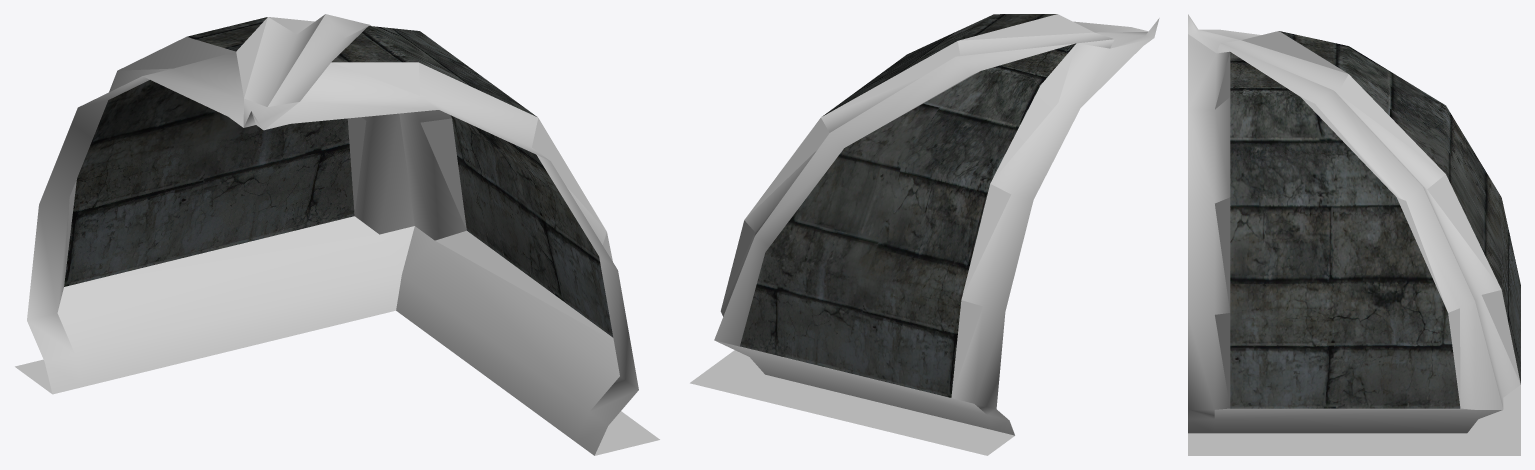
File: corner_concave_short_flat.dae
3 views of the same model, side by side, from view 1: azimuth 30°, elevation 25°; view 2: azimuth 150°, elevation 25°; view 3: azimuth 270°, elevation 25° (orthographic). The views are drawn at different scales.
Visible parts, largest first — view 1: polySurface2, polySurface17; view 2: polySurface17, polySurface2; view 3: polySurface17, polySurface2.
Part boxes in pixels (x1,y1,x2,y2): polySurface2: (15, 14, 659, 455); polySurface17: (64, 17, 613, 337); polySurface17: (740, 14, 1076, 397); polySurface2: (690, 14, 1159, 455); polySurface17: (1230, 31, 1520, 408); polySurface2: (1188, 14, 1520, 455).
Size of the model in its own units: 2 by 2 by 2.
